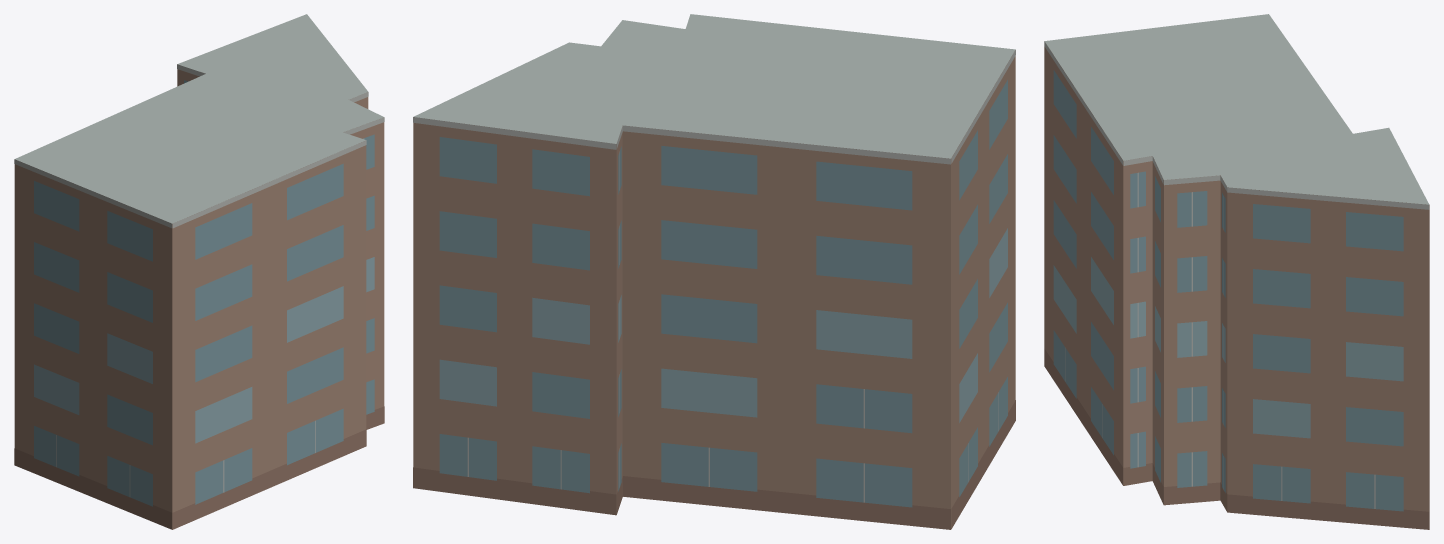
Rendered from survey-upis-32606288.glb.
3 renders of one model, left to right at view 1: azimuth 30°, elevation 25°; view 2: azimuth 150°, elevation 25°; view 3: azimuth 270°, elevation 25°, orthographic. The views are drawn at different scales.
Parts seen in each view (by area): view 1: survey-upis-32606288.tmp; view 2: survey-upis-32606288.tmp; view 3: survey-upis-32606288.tmp.
Boxes of the visible parts, <box> form: survey-upis-32606288.tmp: <box>14,14,384,529</box>; survey-upis-32606288.tmp: <box>413,14,1015,529</box>; survey-upis-32606288.tmp: <box>1044,14,1429,529</box>.
Size of the model in its own units: 19.38 by 15.4 by 16.54.
